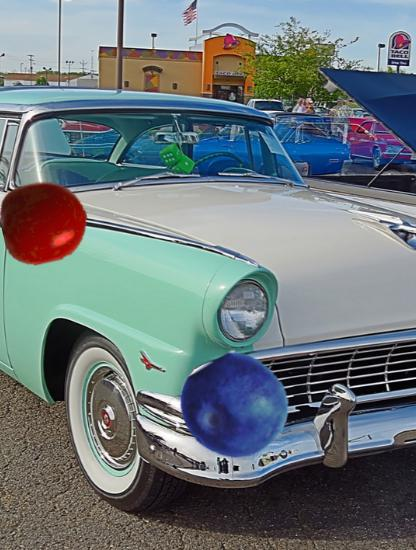Huckleberry: (182, 353, 289, 460)
Tomato: (1, 179, 88, 266)
